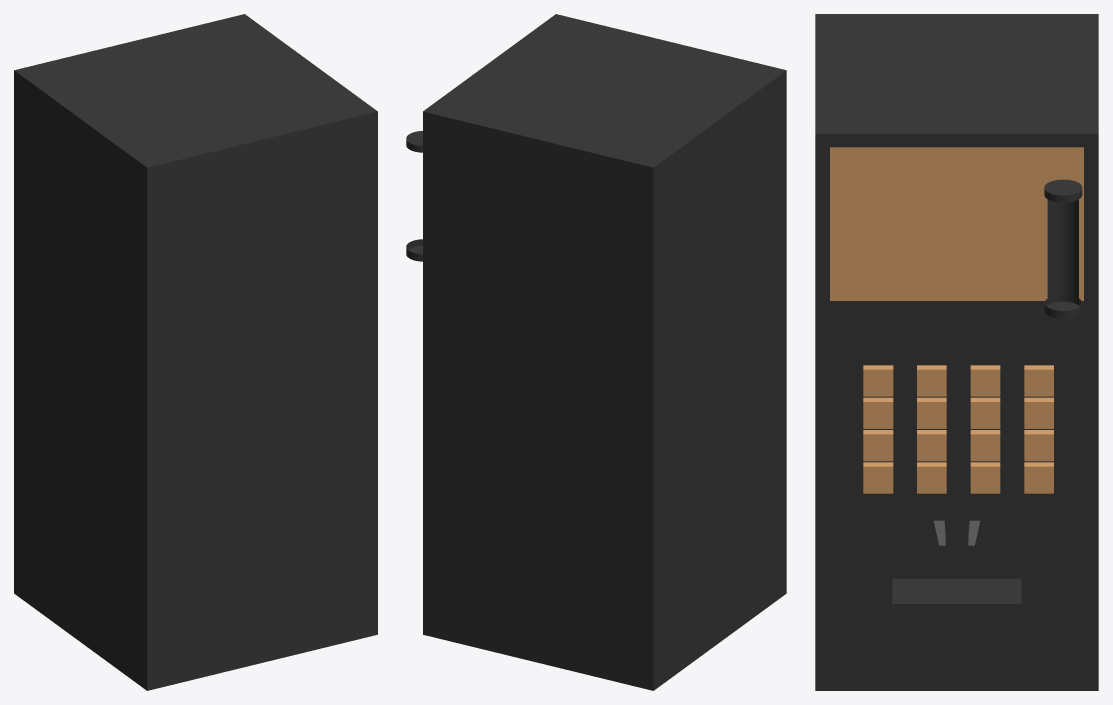
The model's file is automat.fbx.
3 renders of one model, left to right at view 1: azimuth 30°, elevation 25°; view 2: azimuth 150°, elevation 25°; view 3: azimuth 270°, elevation 25°, orthographic. The views are drawn at different scales.
Visible parts, largest first — view 1: Cube; view 2: Cube, Cylinder; view 3: Cube, Cube.001, Cylinder.
Boxes of the visible parts, left/top/right/bottom form: Cube: left=14, top=14, right=377, bottom=690; Cube: left=423, top=14, right=786, bottom=690; Cylinder: left=406, top=131, right=422, bottom=261; Cube: left=815, top=14, right=1098, bottom=690; Cube.001: left=863, top=365, right=1053, bottom=493; Cylinder: left=1044, top=179, right=1082, bottom=318.
Bounding box in the file's own units: 227 × 433 × 200.
